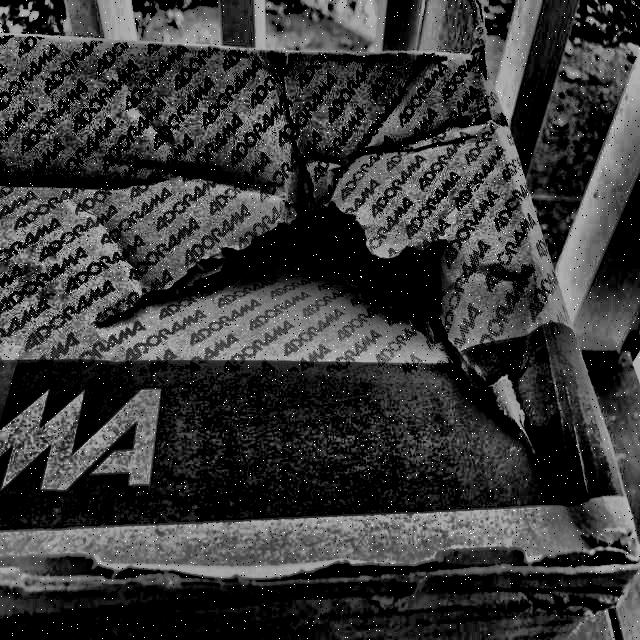box: (0, 21, 639, 639)
hole: (169, 196, 471, 362)
